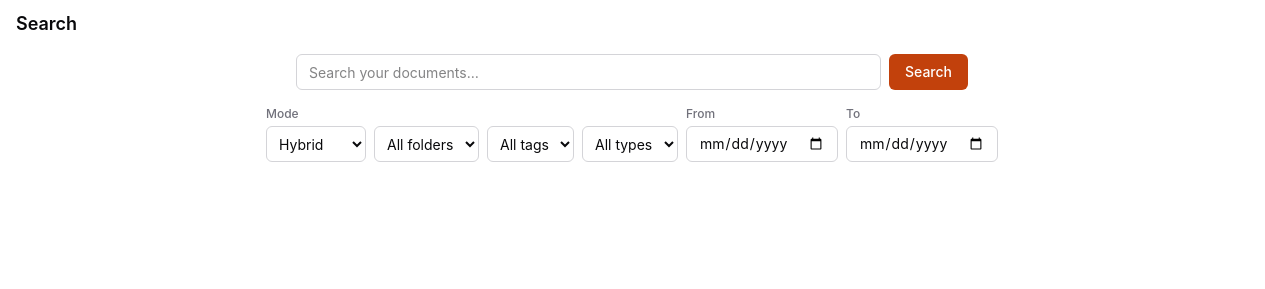
it: submits a search and renders highlighted snippet results
Type "bolletta" into the field with placeholder "Search your documents…" at (588, 72), box [296,54,881,90]
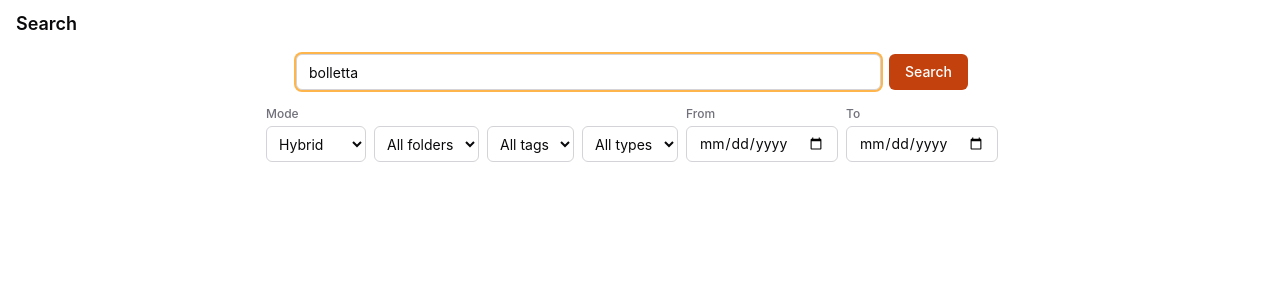
Click the button "Search" at (928, 72), box [889,54,968,90]
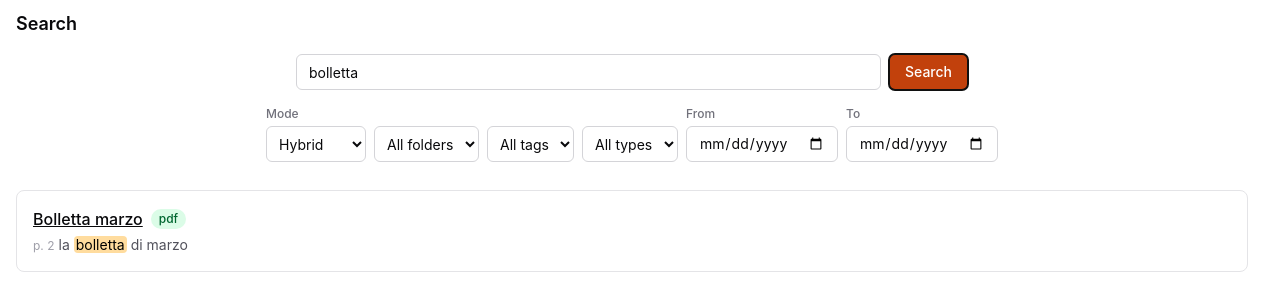
Now the text "p. 2" is shown, box [33,238,54,253]
